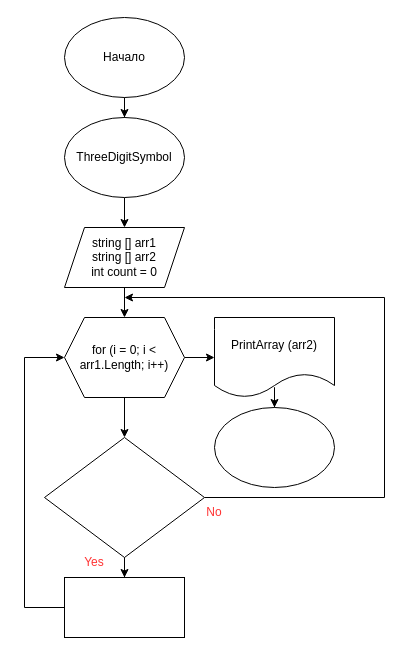
Image size: 410x655. Some labels were removed from this diagram. Each missing label, with the centre of its shape:
arr2[count] = arr1[i] count++: the point at 124,607
if (arr1[i].Length <= 3): the point at 124,497
Конец: the point at 274,447
